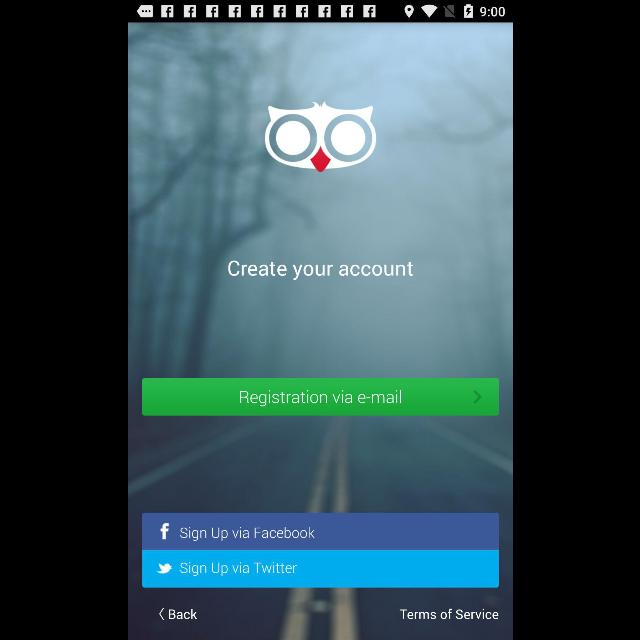icon: (158, 608, 164, 620)
image: (264, 101, 376, 173)
text: (227, 261, 413, 281), (398, 608, 498, 620), (168, 608, 196, 620)
textbutton: (142, 550, 498, 588), (142, 512, 498, 550), (142, 378, 498, 416)
uppertaskbar: (128, 1, 512, 23)
